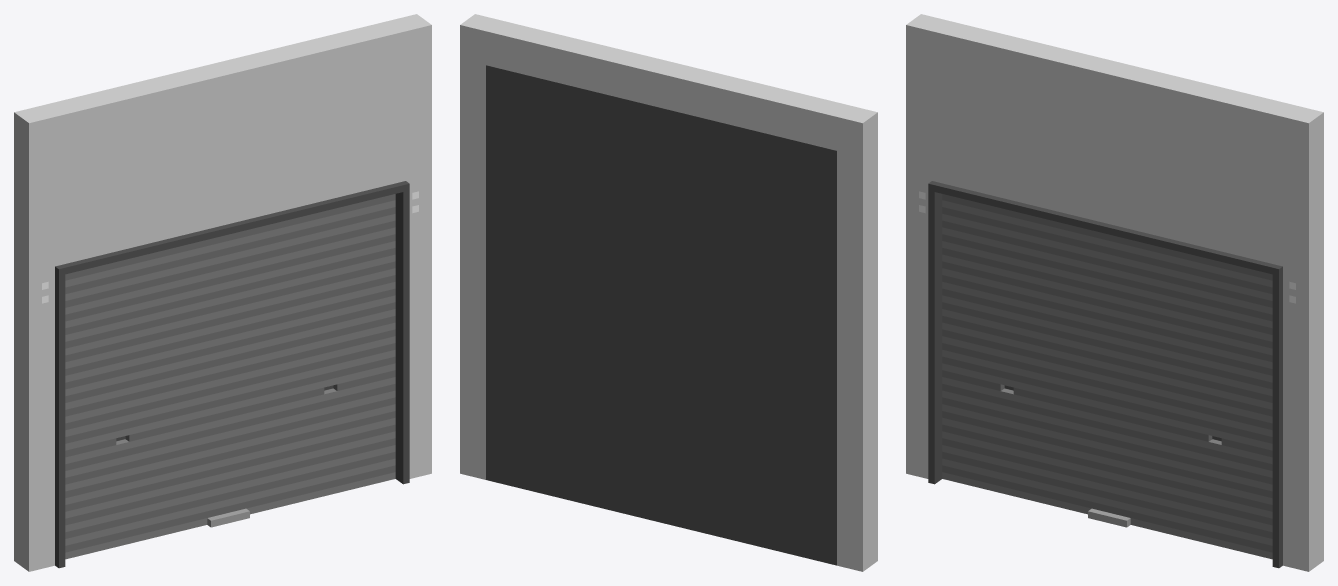
File: rollingDoorOne.glb
The picture shows the model from 3 angles, left to right: view 1: azimuth 30°, elevation 25°; view 2: azimuth 150°, elevation 25°; view 3: azimuth 330°, elevation 25°; orthographic projection.
Visible parts, largest first — view 1: ObjObject; view 2: ObjObject; view 3: ObjObject.
Boxes of the visible parts, left/top/right/bottom form: ObjObject: left=14, top=14, right=431, bottom=571; ObjObject: left=460, top=14, right=877, bottom=571; ObjObject: left=906, top=14, right=1323, bottom=571.
Size of the model in its own units: 6.2 by 6.6 by 0.5.
1 material, 1 textured.
